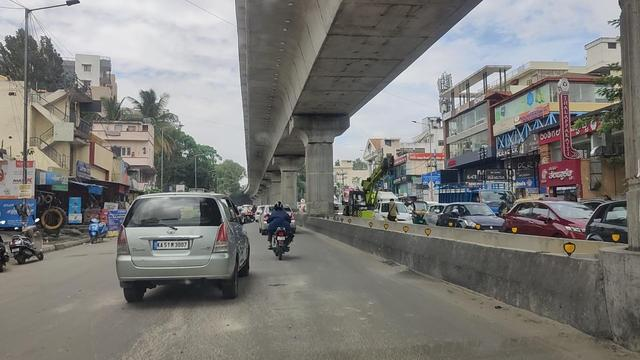LMV: (122, 193, 247, 301), (267, 203, 294, 263)
RoadDamages: (134, 312, 210, 360)
